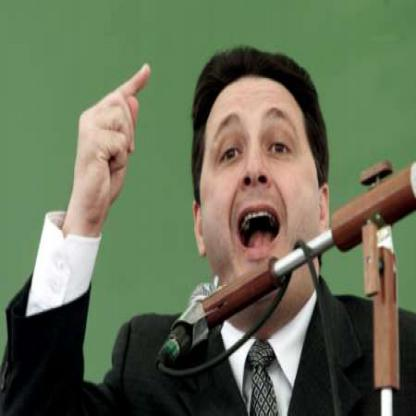face: (198, 60, 323, 309)
